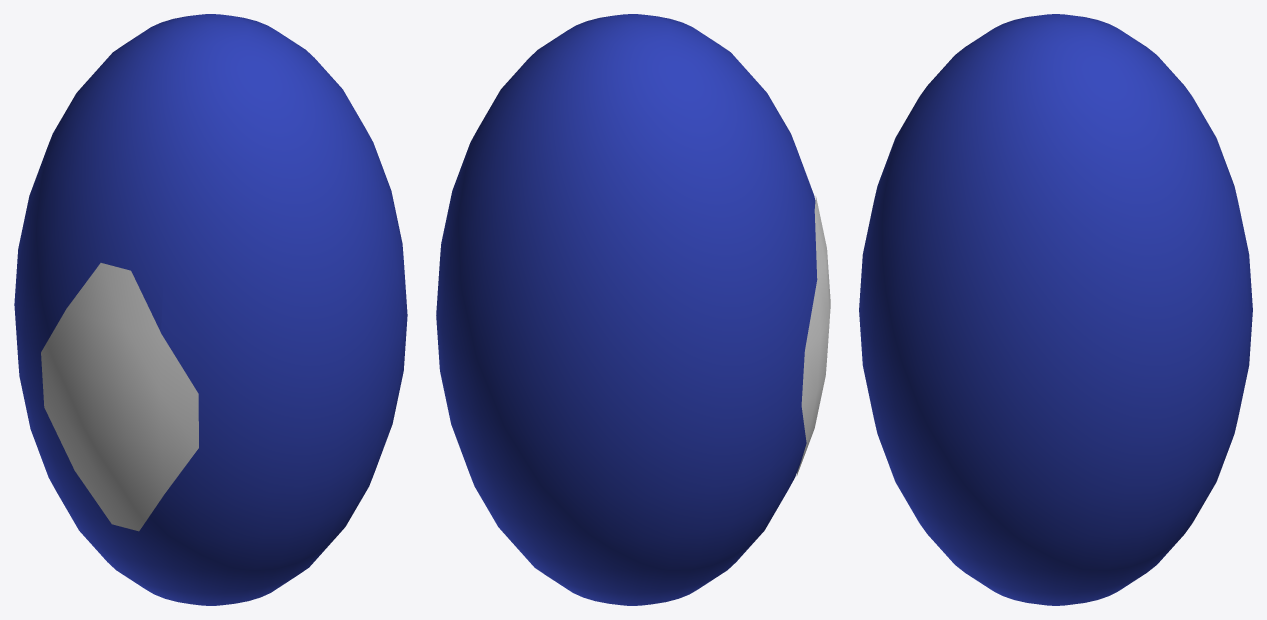
Rendered from 子弹5闪电侠.FBX.
The picture shows the model from 3 angles, left to right: view 1: azimuth 30°, elevation 25°; view 2: azimuth 150°, elevation 25°; view 3: azimuth 270°, elevation 25°; orthographic projection.
Parts seen in each view (by area): view 1: Sphere001, 对象001; view 2: Sphere001, 对象001; view 3: Sphere001.
Part boxes in pixels (x1=…): Sphere001: x1=14, y1=14, x2=407, y2=605; 对象001: x1=41, y1=263, x2=198, y2=531; Sphere001: x1=436, y1=14, x2=817, y2=605; 对象001: x1=796, y1=196, x2=830, y2=475; Sphere001: x1=859, y1=14, x2=1252, y2=605.
Size of the model in its own units: 41.96 by 66.95 by 41.9.
